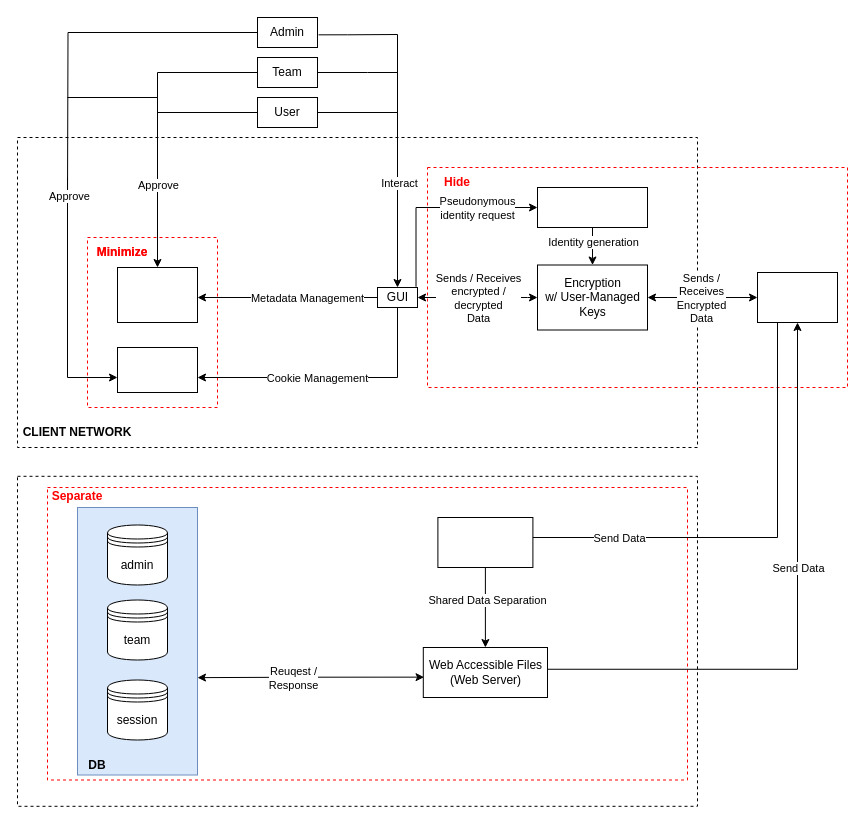
Image size: 865x824. Some labels were removed from this diagram. The shapes that lost their labels are listed below. From the top down, each one's centre as x and y in pixels, then its label:
(592,207): Pseudonymous Identity
(157,294): Strip Invisible Metadata
(797,297): Onion Routing
(157,369): Cookie Manager
(485,542): User Data Confinement
